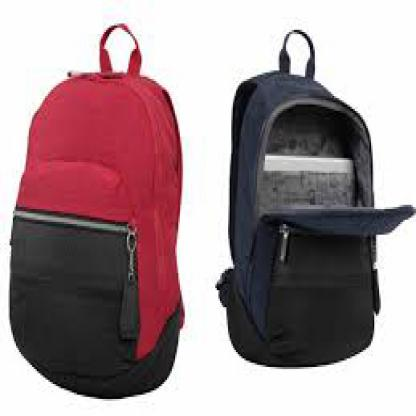morral: (5, 24, 193, 406), (217, 28, 414, 371)
